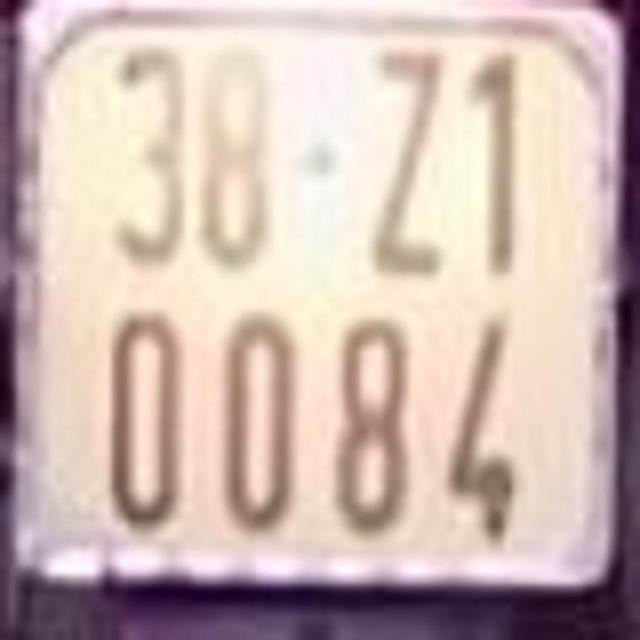0: (108, 306, 183, 536), (222, 304, 292, 530)
1: (459, 37, 527, 286)
3: (110, 42, 187, 265)
4: (451, 317, 516, 544)
8: (194, 44, 268, 266), (334, 310, 407, 534)
Z: (365, 39, 442, 287)
